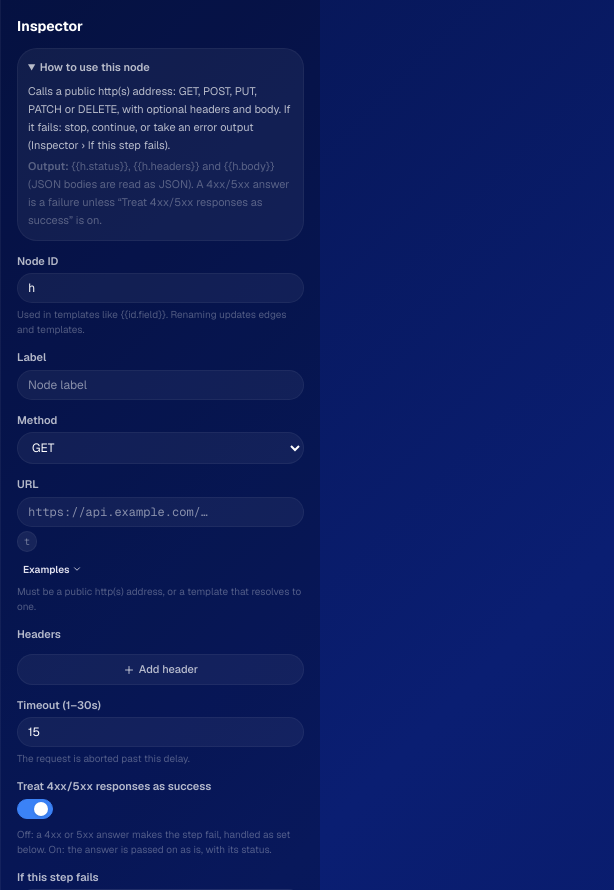
Test case: inspector: http node › shows the body field for POST
Select "POST" in the dropdown labelled "Method" at (160, 448), box [17,432,304,464]
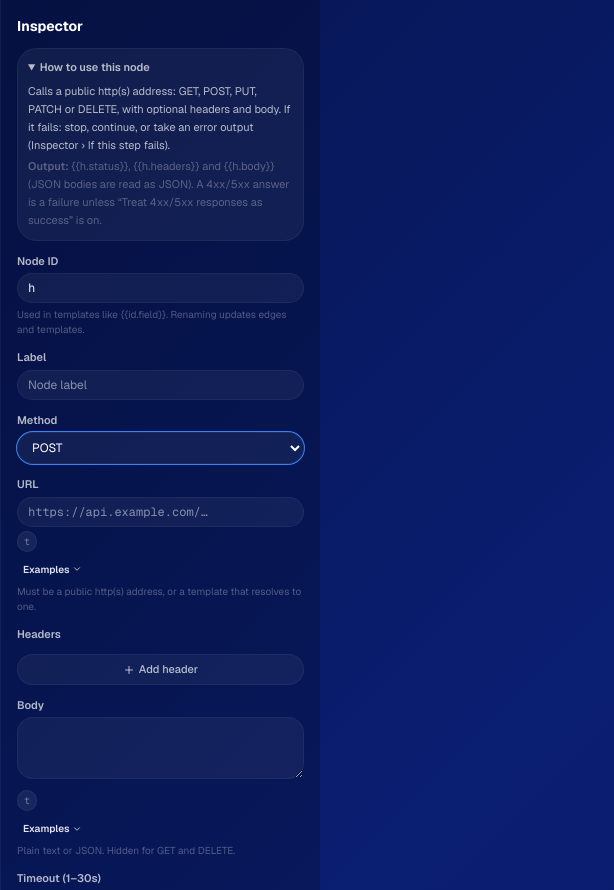
Now the text box labelled "Body t Examples" is shown, box [17,717,304,779]
